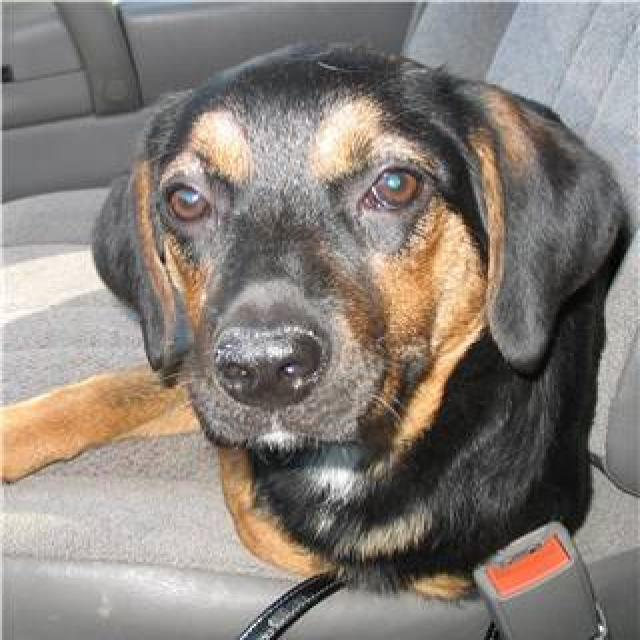dog: (0, 38, 632, 602)
